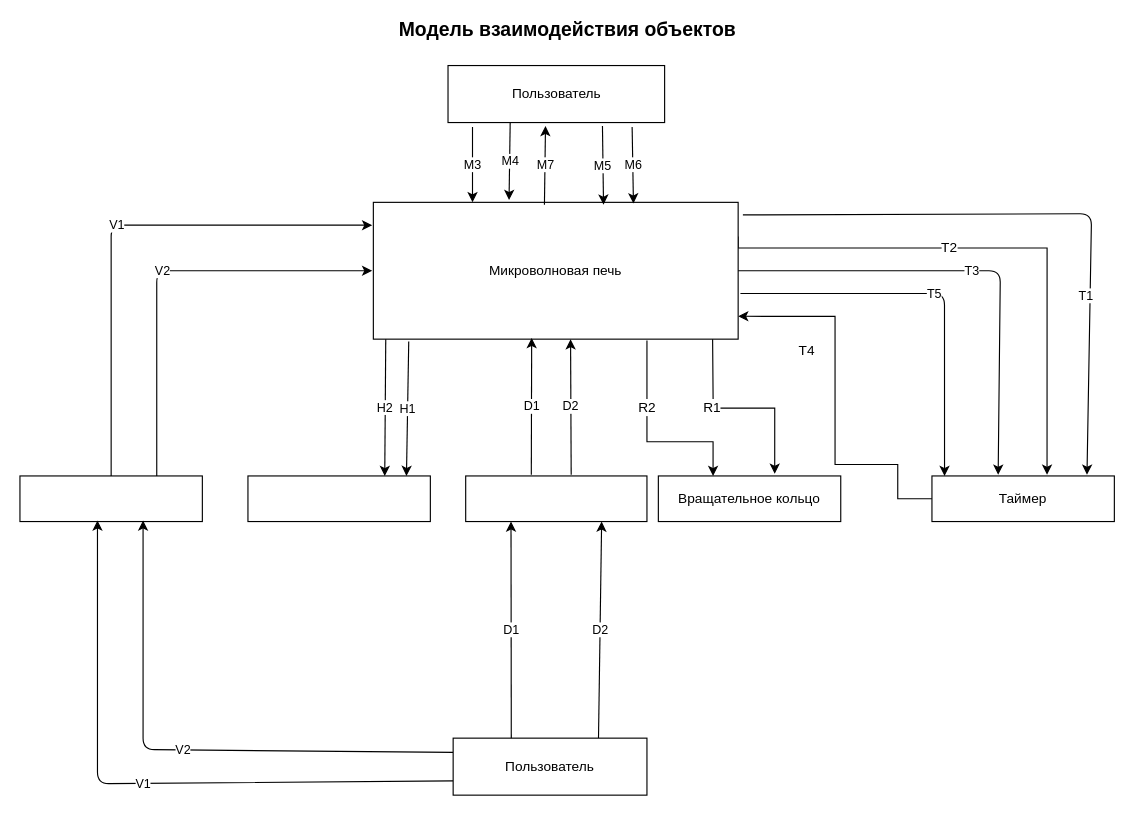
The diagram is 1134 pixels wide and 815 high, and some of its shapes have lost their labels. The box of each missing label's shape, as (x1, y1, x2, y2) in pixels:
Двери: (465, 475, 647, 522)
Магнетрон: (247, 475, 430, 522)
Электровилка: (19, 475, 202, 522)
